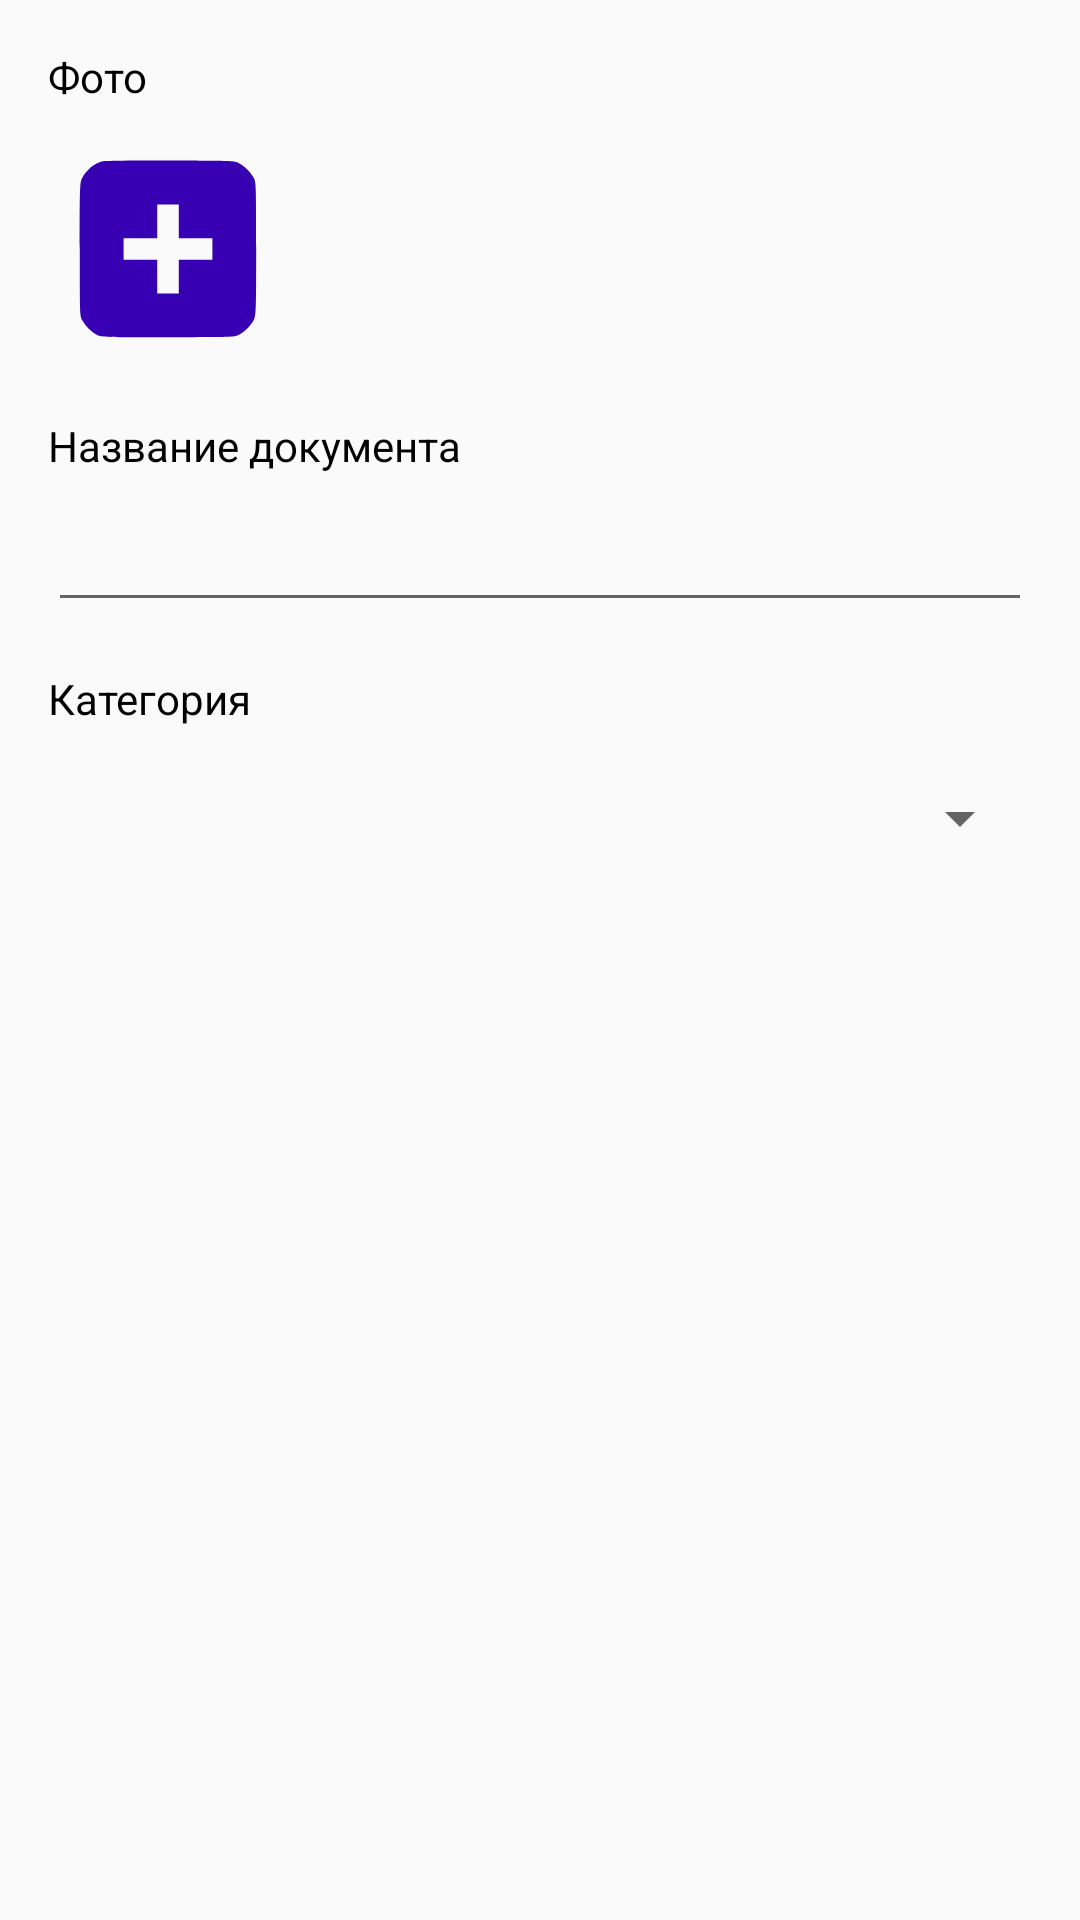

Point at icon controls on the screen. Image size 1080x1920, points as [x,y].
add photo: [168,249]
